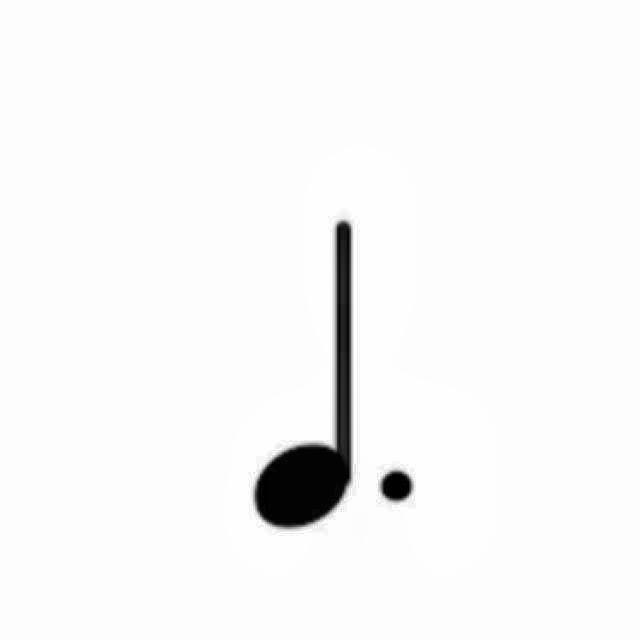Quarter-dot: (247, 210, 426, 546)
